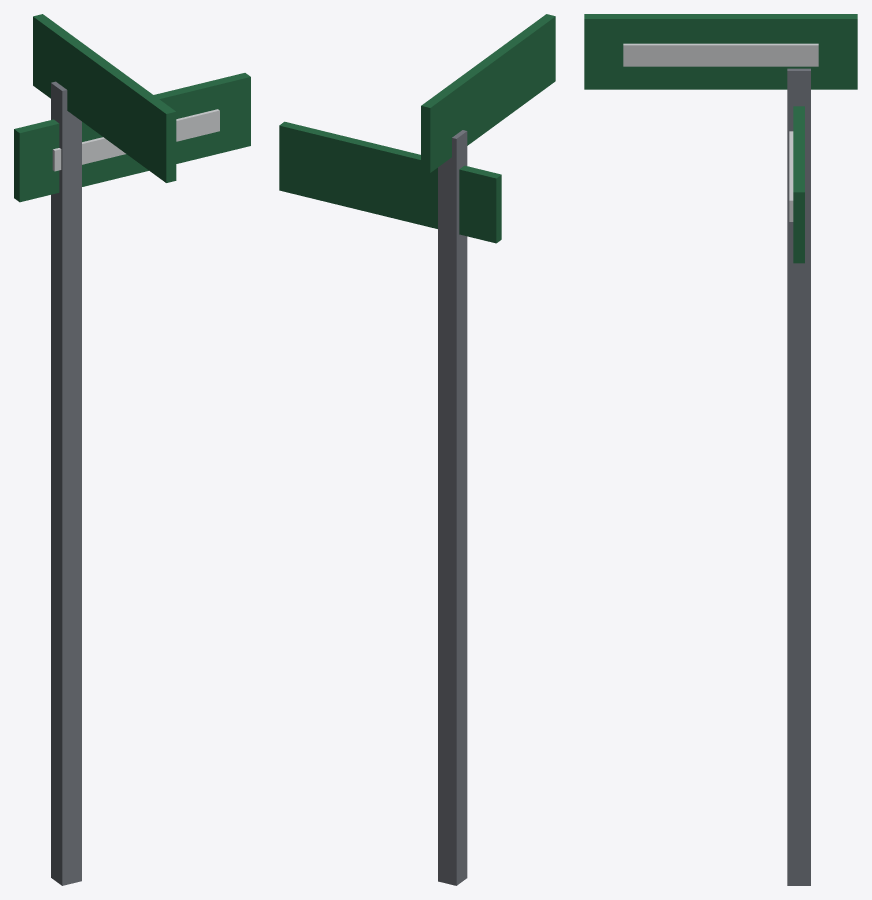
File: mod-placa-rua.gltf
3 views of the same model, side by side, from view 1: azimuth 30°, elevation 25°; view 2: azimuth 150°, elevation 25°; view 3: azimuth 270°, elevation 25° (orthographic). The views are drawn at different scales.
Parts seen in each view (by area): view 1: mod-placa-rua; view 2: mod-placa-rua; view 3: mod-placa-rua.
Boxes of the visible parts, bbox=[...] form: mod-placa-rua: bbox=[14, 14, 250, 885]; mod-placa-rua: bbox=[279, 14, 555, 885]; mod-placa-rua: bbox=[584, 14, 857, 885].
Bounding box in the file's own units: 0.7 × 2.44 × 0.7.
